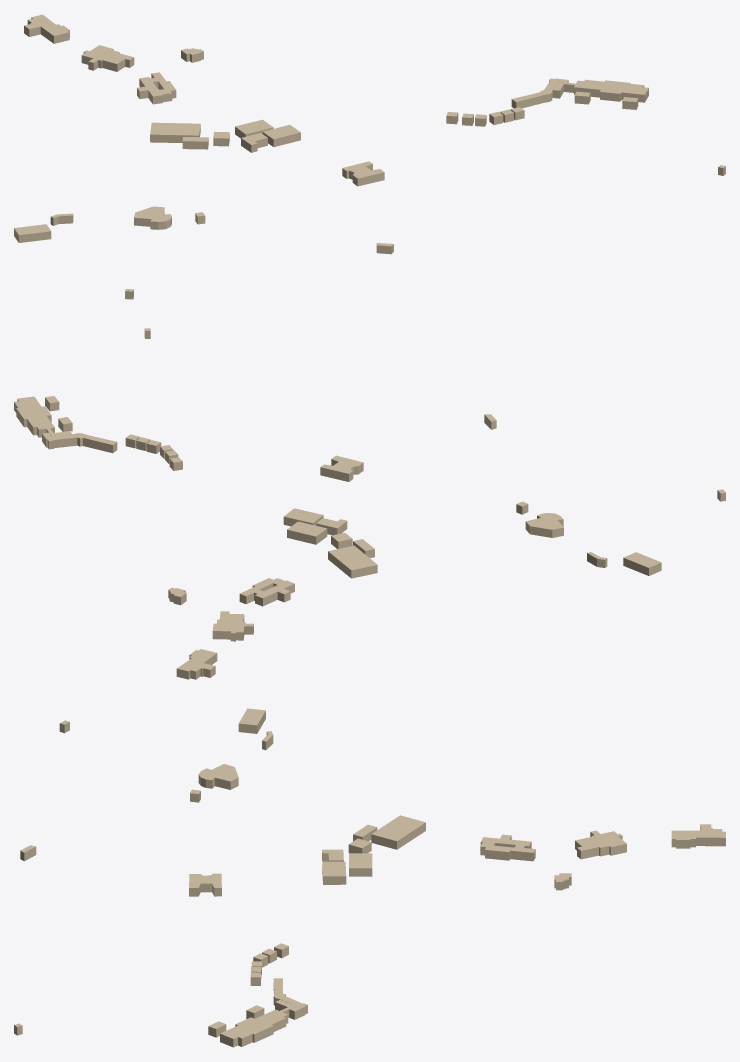
Rendered from -6_7-estimated-coarse.glb.
3 renders of one model, top to bottom at view 1: azimuth 30°, elevation 25°; view 2: azimuth 150°, elevation 25°; view 3: azimuth 270°, elevation 25°, orthographic. The views are drawn at different scales.
Size of the model in its own units: 998 by 12 by 909.
